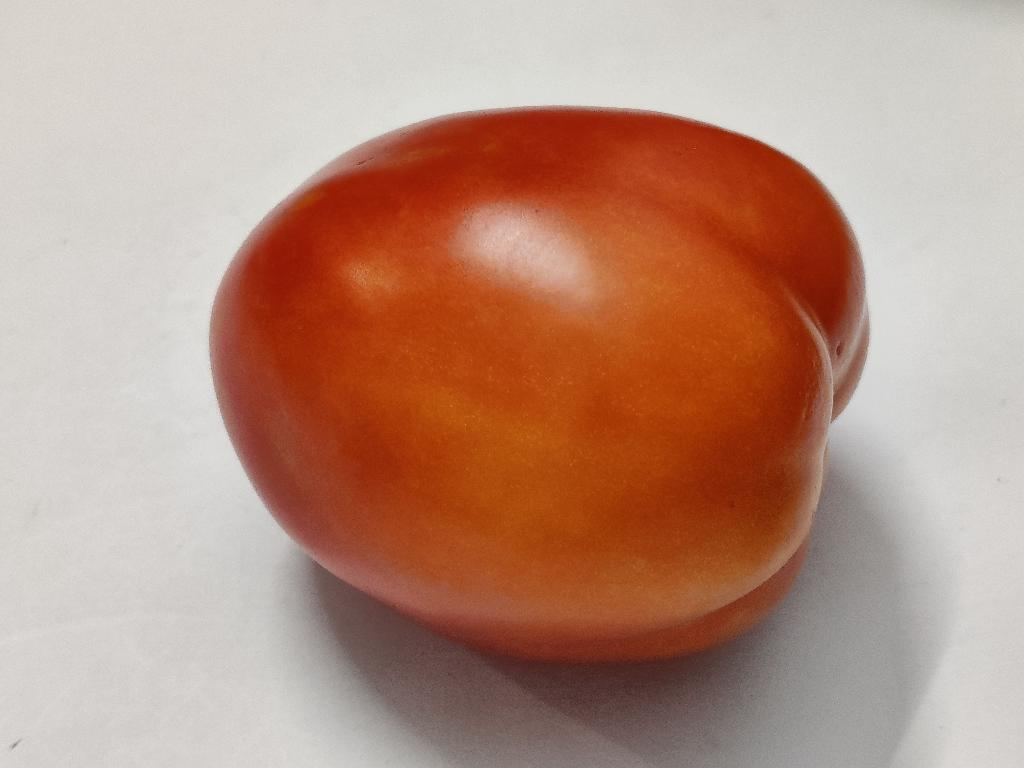tomato: (211, 109, 867, 660)
